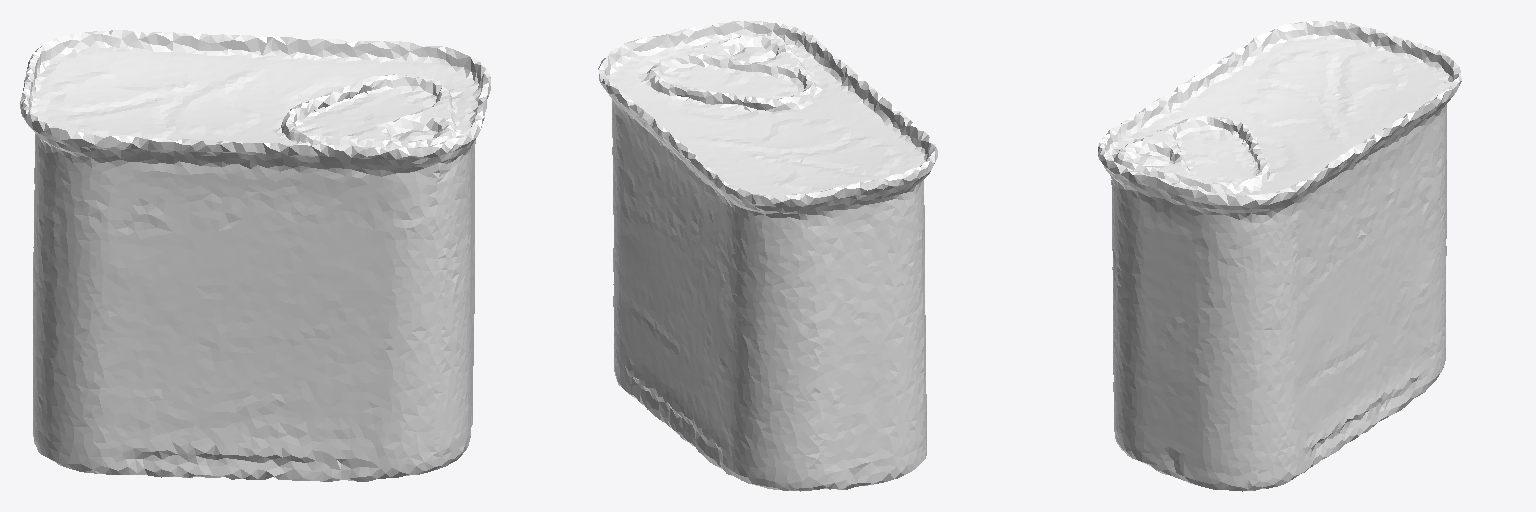
URDF robot description (model.urdf):
<?xml version="0.0" ?>
<robot name="model.urdf">
  <link name="baseLink">
    <contact>
      <friction_anchor/>
      <lateral_friction value="0.6"/>
      <rolling_friction value="0.0"/>
      <contact_cfm value="0.0"/>
      <contact_erp value="1.0"/>
    </contact>
    <inertial>
       <origin rpy="0 0 -0.5" xyz="0 0.012 -0.01"/>
       <mass value=".370"/>
       <inertia ixx="1e-3" ixy="0" ixz="0" iyy="1e-3" iyz="0" izz="1e-3"/>
    </inertial>
    <visual>
      <geometry>
        <mesh filename="textured_simple_reoriented.obj" scale="1 1 1"/>
      </geometry>
      <material name="white">
        <color rgba="1. 1. 1. 1."/>
      </material>
    </visual>
    <collision>
      <geometry>
    	 	<mesh filename="collision_vhacd.obj" scale="1 1 1"/>
      </geometry>
    </collision>
  </link>
</robot>

--- Facts derived from the render (not from the file) ---
The picture shows the robot from 3 angles, left to right: view 1: azimuth 30°, elevation 25°; view 2: azimuth 150°, elevation 25°; view 3: azimuth 270°, elevation 25°; orthographic projection.
Model model.urdf with 1 links and 0 joints (none), rooted at baseLink, posed all joints at 0.
Links seen in each view (by area): view 1: baseLink; view 2: baseLink; view 3: baseLink.
Boxes of the visible links, box(x1,y1,x2,y2) form: baseLink: box(20, 30, 490, 481); baseLink: box(598, 20, 937, 491); baseLink: box(1098, 21, 1461, 491).
Bounding box of the posed robot: 0.1011 × 0.09 × 0.0845 m (x, y, z).
Meshes: 1 distinct files referenced, 1 mesh visuals loaded (1 OBJ).